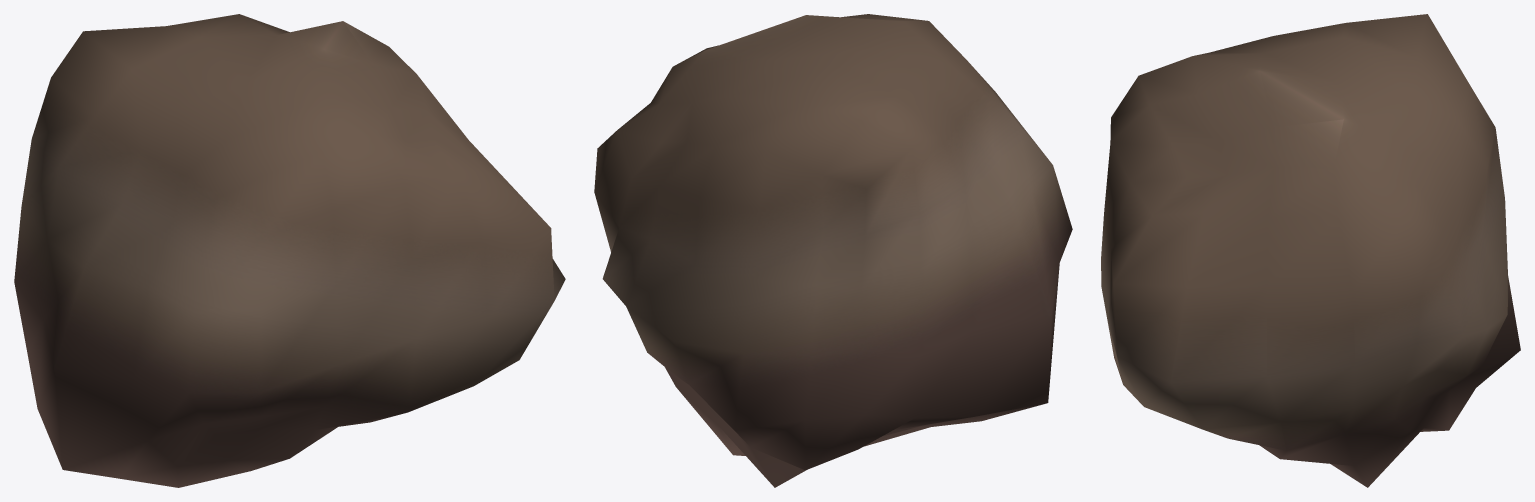
The model's file is m_rock.FBX.
3 renders of one model, left to right at view 1: azimuth 30°, elevation 25°; view 2: azimuth 150°, elevation 25°; view 3: azimuth 270°, elevation 25°, orthographic. The views are drawn at different scales.
Parts seen in each view (by area): view 1: rockLP001; view 2: rockLP001; view 3: rockLP001.
Boxes of the visible parts, x1,y1,x2,y2 form: rockLP001: (14,14,565,487); rockLP001: (594,14,1072,487); rockLP001: (1101,14,1520,487).
Bounding box in the file's own units: 2.62 × 2.39 × 2.23.
